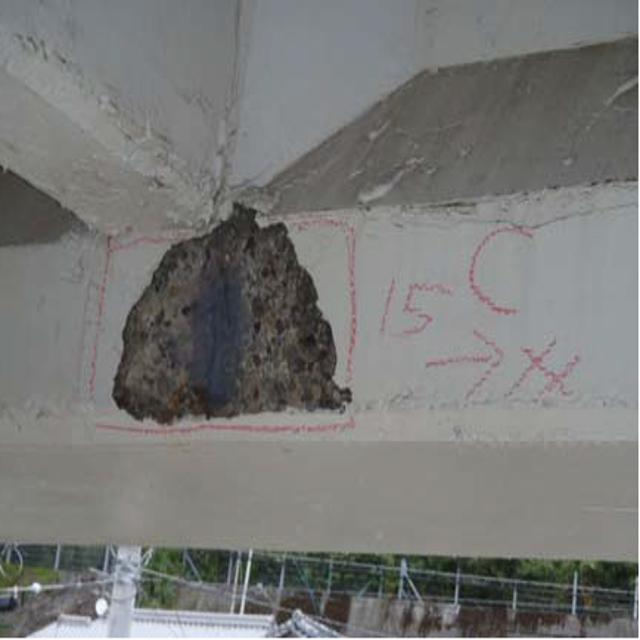spalling: (106, 207, 351, 439)
